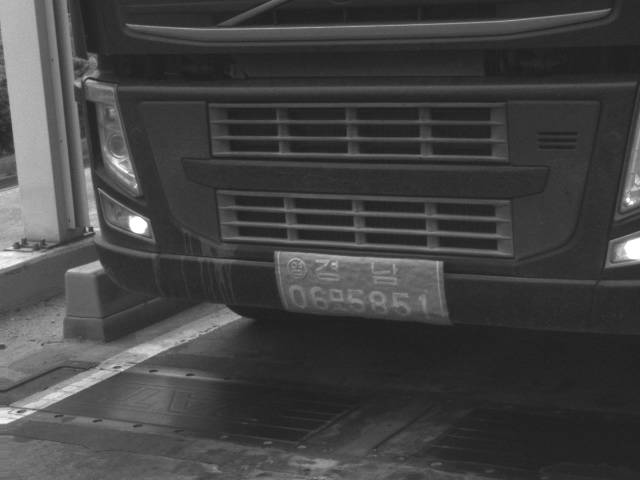car: (73, 1, 640, 340)
plate: (271, 249, 452, 326)
